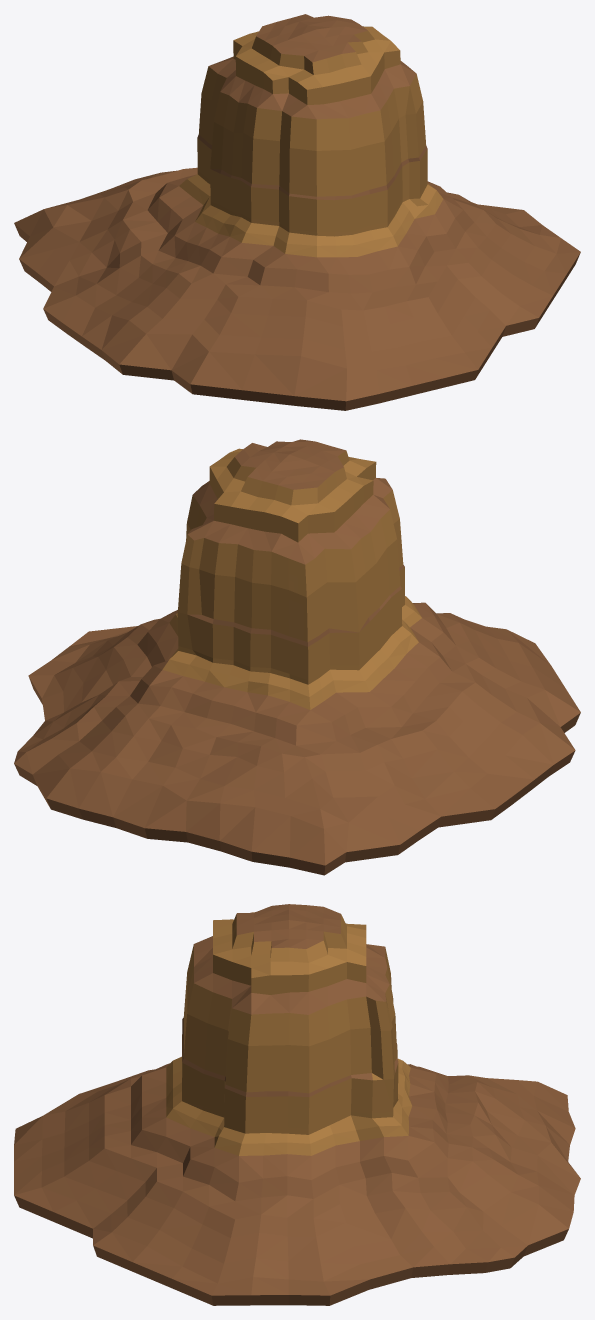
File: mountain-desert.glb
3 renders of one model, top to bottom at view 1: azimuth 30°, elevation 25°; view 2: azimuth 150°, elevation 25°; view 3: azimuth 270°, elevation 25°, orthographic. The views are drawn at different scales.
Parts seen in each view (by area): view 1: mountain-desert; view 2: mountain-desert; view 3: mountain-desert.
Part boxes in pixels (left/top/right/bottom): mountain-desert: left=14, top=14, right=580, bottom=410; mountain-desert: left=14, top=439, right=580, bottom=875; mountain-desert: left=14, top=904, right=580, bottom=1305.
Bounding box in the file's own units: 53.09 × 28.86 × 54.37.
Materials: 1 (1 with a texture image).
